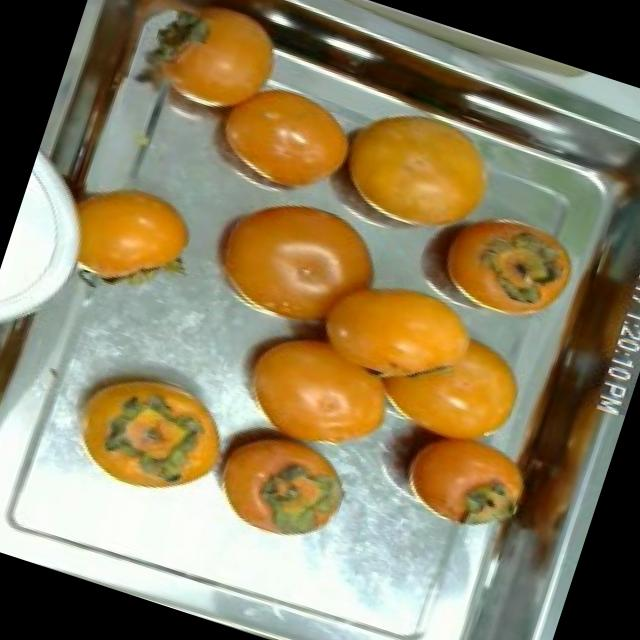Fruit: (181, 168, 409, 353), (215, 306, 424, 474), (48, 345, 250, 518), (178, 54, 376, 228), (318, 87, 522, 252), (358, 300, 550, 470), (189, 404, 371, 562), (412, 187, 594, 341), (114, 0, 306, 144), (53, 159, 216, 314)
